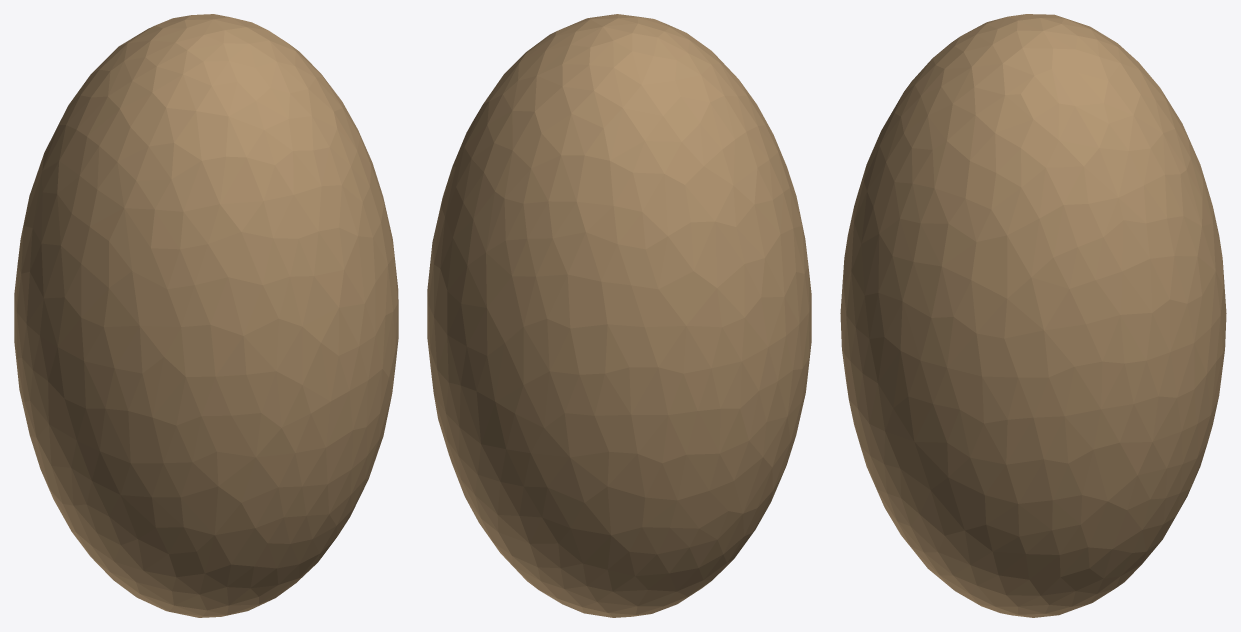
The model's file is ai_barrel.glb.
The picture shows the model from 3 angles, left to right: view 1: azimuth 30°, elevation 25°; view 2: azimuth 150°, elevation 25°; view 3: azimuth 270°, elevation 25°; orthographic projection.
Visible parts, largest first — view 1: CT40_Barrel; view 2: CT40_Barrel; view 3: CT40_Barrel.
Boxes of the visible parts, x1=… form: CT40_Barrel: x1=14, y1=14, x2=398, y2=617; CT40_Barrel: x1=427, y1=14, x2=811, y2=617; CT40_Barrel: x1=840, y1=14, x2=1226, y2=617.
Size of the model in its own units: 1.2 by 2 by 1.2.
